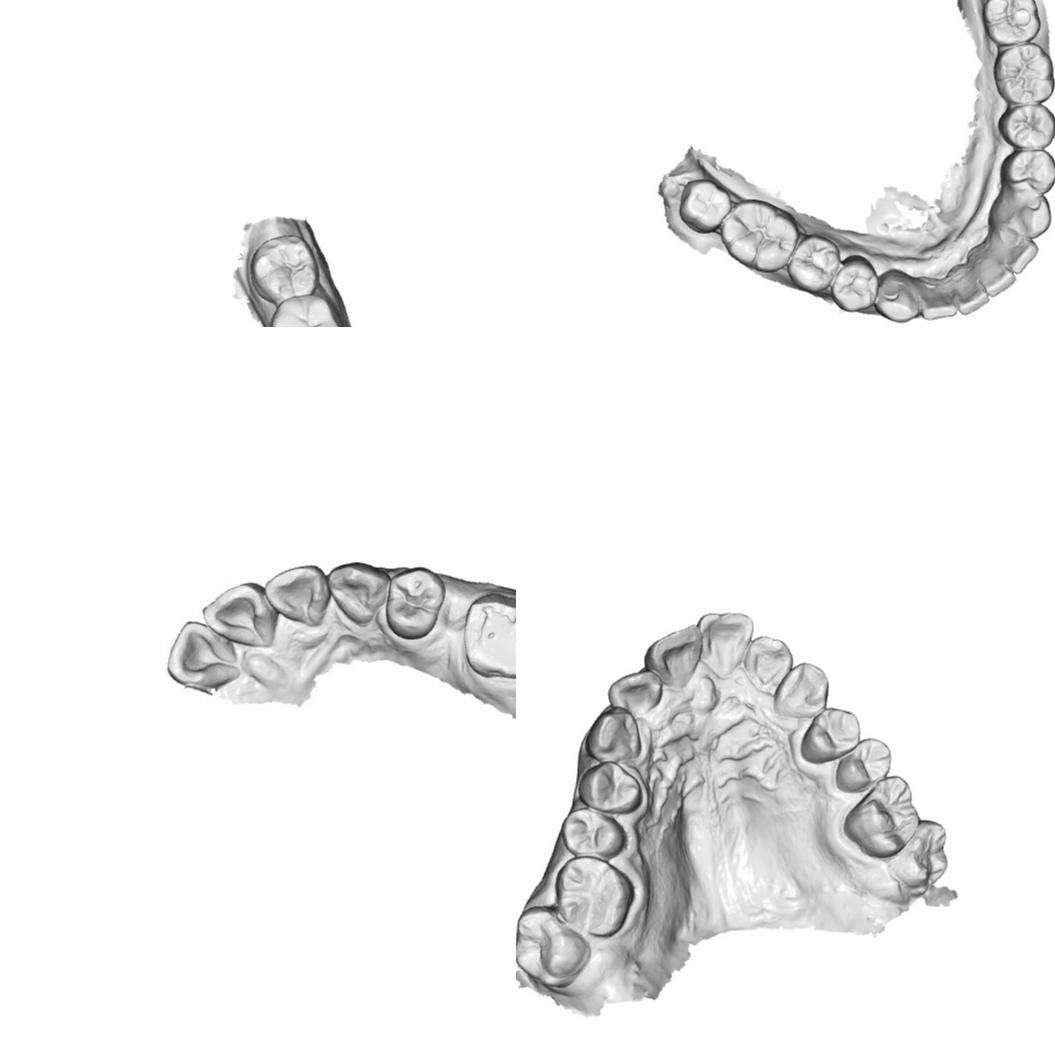canine: (773, 661, 832, 721), (584, 704, 641, 765), (874, 267, 920, 325), (998, 193, 1055, 239)
incisor: (166, 617, 240, 691), (200, 582, 276, 651), (328, 559, 390, 630), (642, 623, 706, 691), (696, 610, 754, 682), (266, 564, 327, 630), (743, 632, 795, 696), (607, 669, 663, 712), (970, 253, 1018, 298), (950, 270, 990, 316), (991, 236, 1039, 274), (917, 278, 958, 320)
molar: (552, 854, 634, 938), (842, 774, 922, 860), (516, 904, 591, 989), (720, 198, 800, 274), (889, 818, 951, 898), (462, 593, 516, 679), (252, 238, 317, 302), (992, 41, 1055, 104), (677, 177, 734, 234), (980, 0, 1041, 46), (273, 294, 337, 327)
premolar: (384, 566, 444, 639), (799, 706, 863, 766), (576, 761, 644, 816), (560, 806, 626, 860), (833, 735, 893, 794), (786, 233, 841, 293), (996, 103, 1055, 149), (998, 147, 1055, 194), (830, 260, 878, 312)
